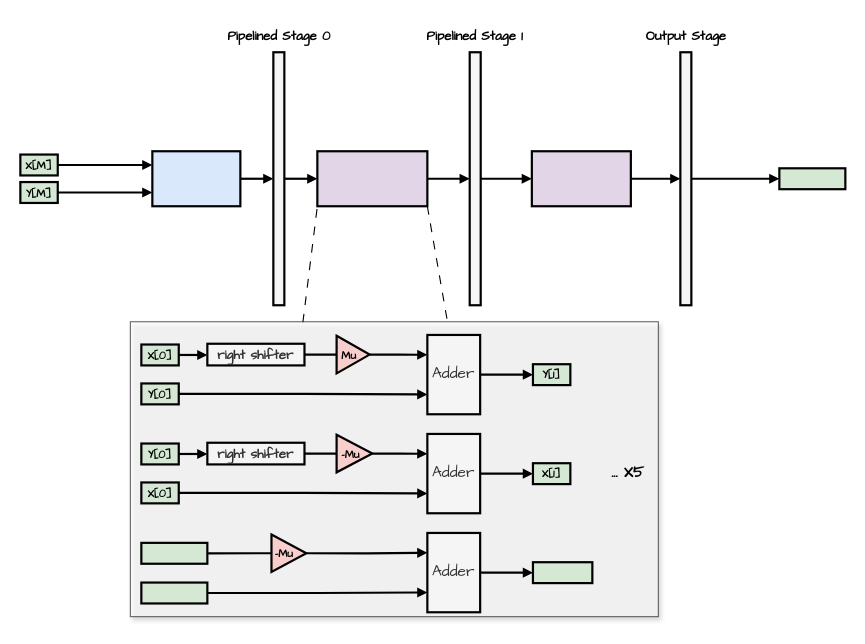
Some shapes in this 865 by 644 pixel diagram are drawn without their labels. The shapes that lost their labels are listed below. From the top down, each one's centre as x and y in pixels, then its label:
the point at 196,178: INITIAL STAGE
the point at 372,178: ITERATION STAGE [0]
the point at 580,178: ITERATION STAGE [1]
the point at 812,178: Theta [M]
the point at 174,552: Theta_e[0]
the point at 562,572: Theta[1]
the point at 174,592: Theta [0]
